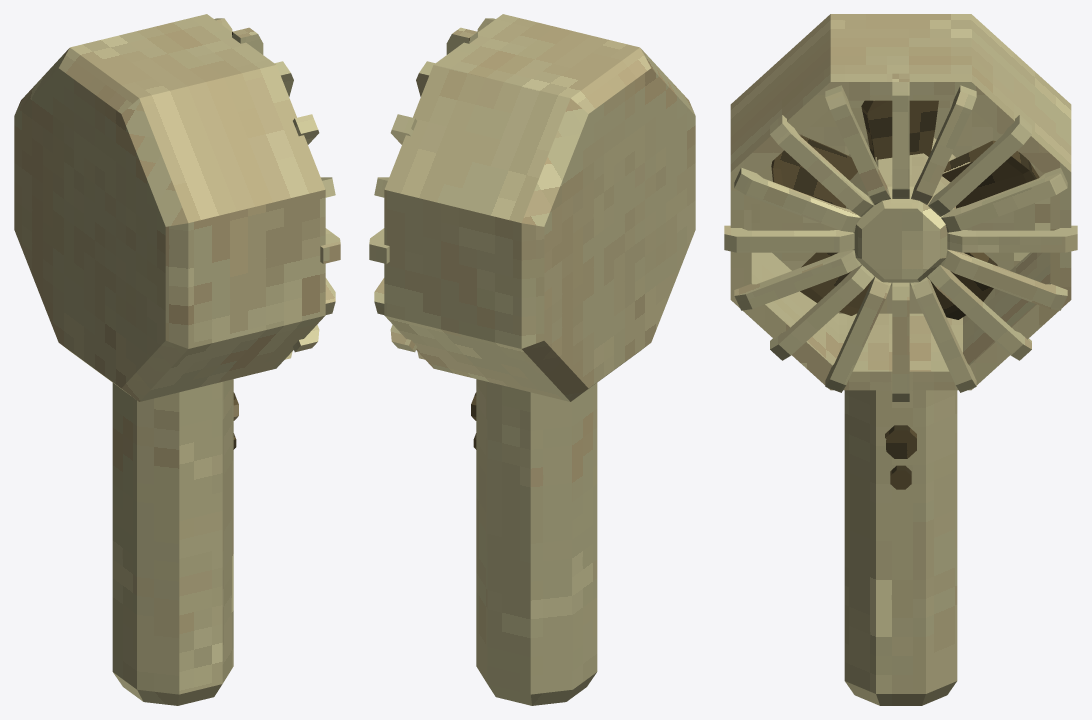
The model's file is Fan.fbx.
3 renders of one model, left to right at view 1: azimuth 30°, elevation 25°; view 2: azimuth 150°, elevation 25°; view 3: azimuth 270°, elevation 25°, orthographic.
Parts seen in each view (by area): view 1: Fan; view 2: Fan; view 3: Fan, Fan_Blades.
Part boxes in pixels (x1,y1,x2,y2): Fan: [14, 14, 340, 705]; Fan: [369, 14, 695, 705]; Fan: [724, 14, 1077, 705]; Fan_Blades: [771, 100, 1039, 319].
Bounding box in the file's own units: 4.4 × 15.77 × 7.83.
